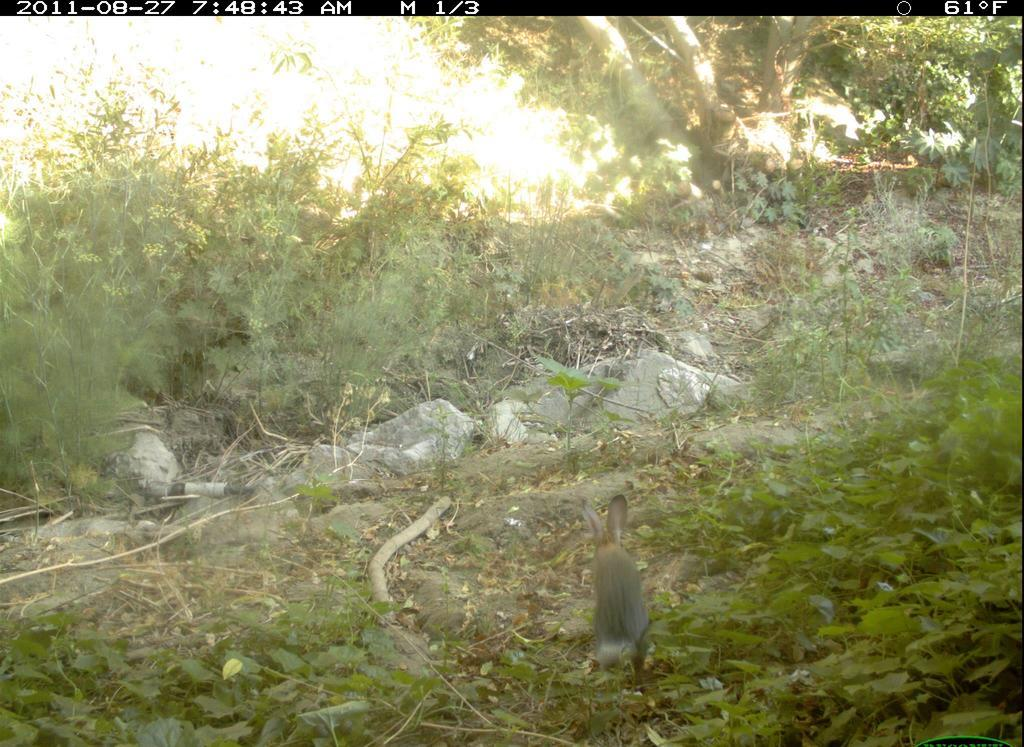rabbit: (564, 489, 676, 681)
